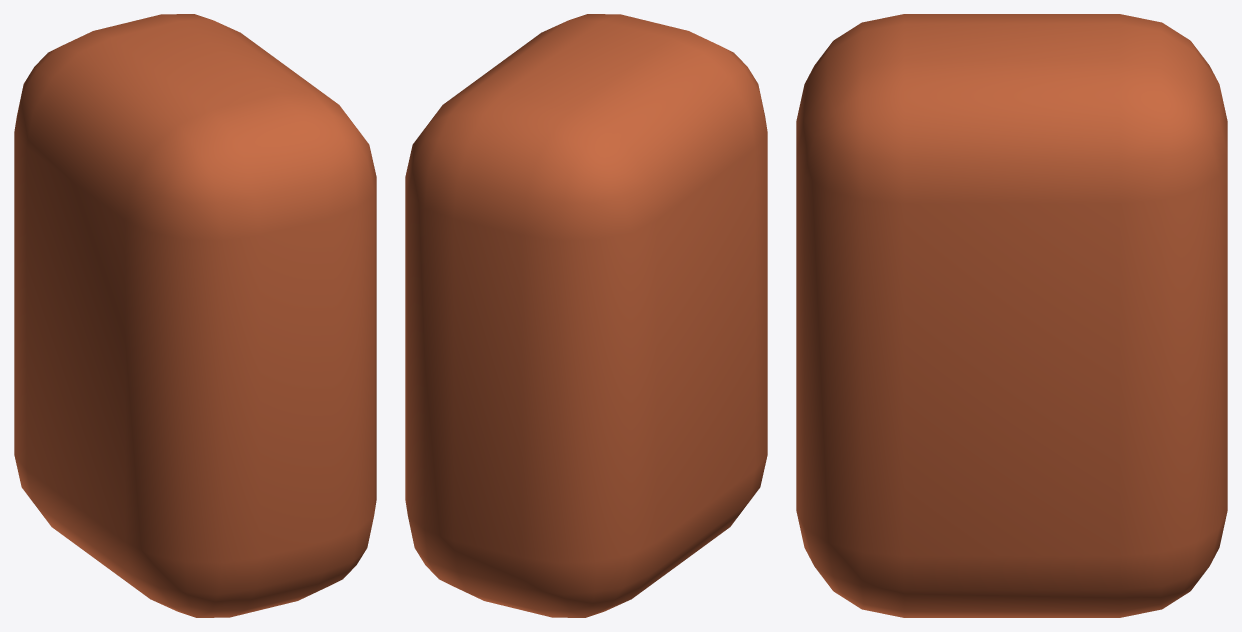
The model's file is reciprocating_saw_trigger.glb.
The picture shows the model from 3 angles, left to right: view 1: azimuth 30°, elevation 25°; view 2: azimuth 150°, elevation 25°; view 3: azimuth 270°, elevation 25°; orthographic projection. The views are drawn at different scales.
Parts seen in each view (by area): view 1: reciprocating_saw_trigger; view 2: reciprocating_saw_trigger; view 3: reciprocating_saw_trigger.
Part boxes in pixels (x1,y1,x2,y2): reciprocating_saw_trigger: (14, 14, 376, 617); reciprocating_saw_trigger: (405, 14, 767, 617); reciprocating_saw_trigger: (796, 14, 1227, 617).
Bounding box in the file's own units: 0.014 × 0.028 × 0.02.
